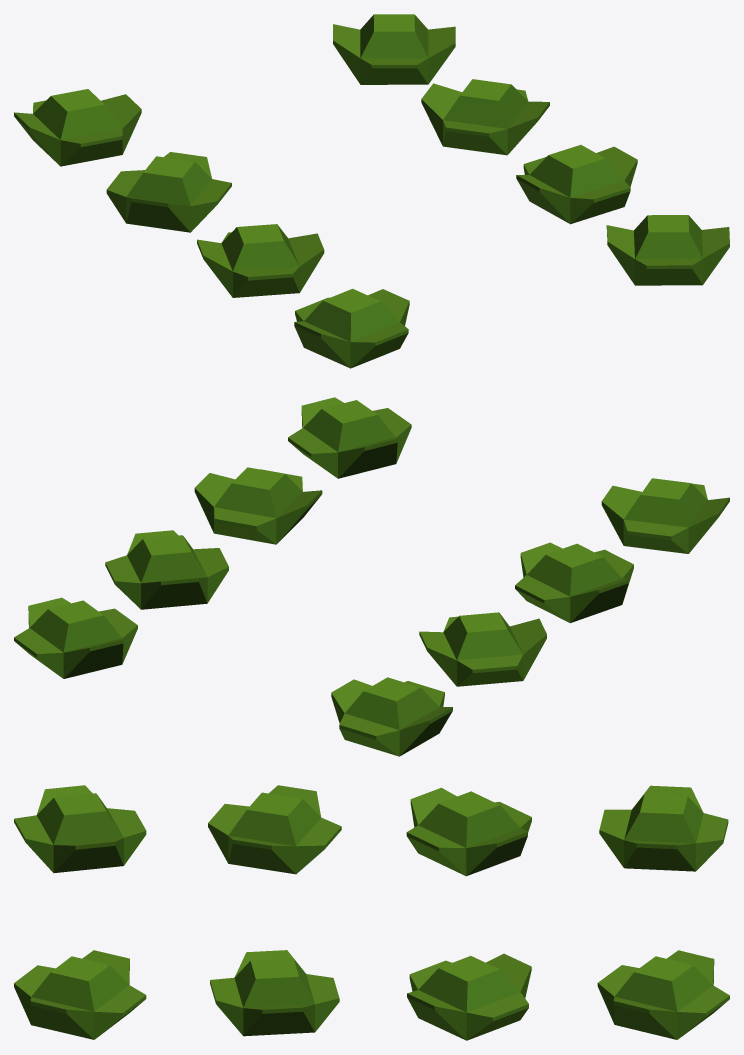
File: Crops_Cabbage.gltf
The picture shows the model from 3 angles, top to bottom: view 1: azimuth 30°, elevation 25°; view 2: azimuth 150°, elevation 25°; view 3: azimuth 270°, elevation 25°; orthographic projection. The views are drawn at different scales.
Visible parts, largest first — view 1: SF_Prop_Crops_Cabbage; view 2: SF_Prop_Crops_Cabbage; view 3: SF_Prop_Crops_Cabbage.
Boxes of the visible parts, bbox=[...] form: SF_Prop_Crops_Cabbage: bbox=[14, 14, 729, 368]; SF_Prop_Crops_Cabbage: bbox=[14, 397, 729, 756]; SF_Prop_Crops_Cabbage: bbox=[14, 785, 729, 1040].
Bounding box in the file's own units: 0.0674 × 0.00716 × 0.092.
1 material, 1 textured.
